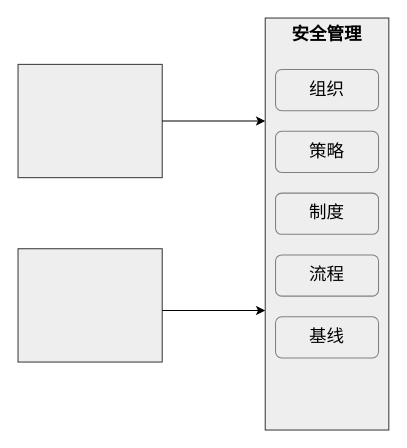
The diagram is 407 pixels wide and 448 high, and some of its shapes have lost their labels. Each missing label, with the centre of its shape:
"法律法规，人民银行，工信部等监管要求" goes at (89,305).
"集团网络信息安全四级制度体系" goes at (89,120).
